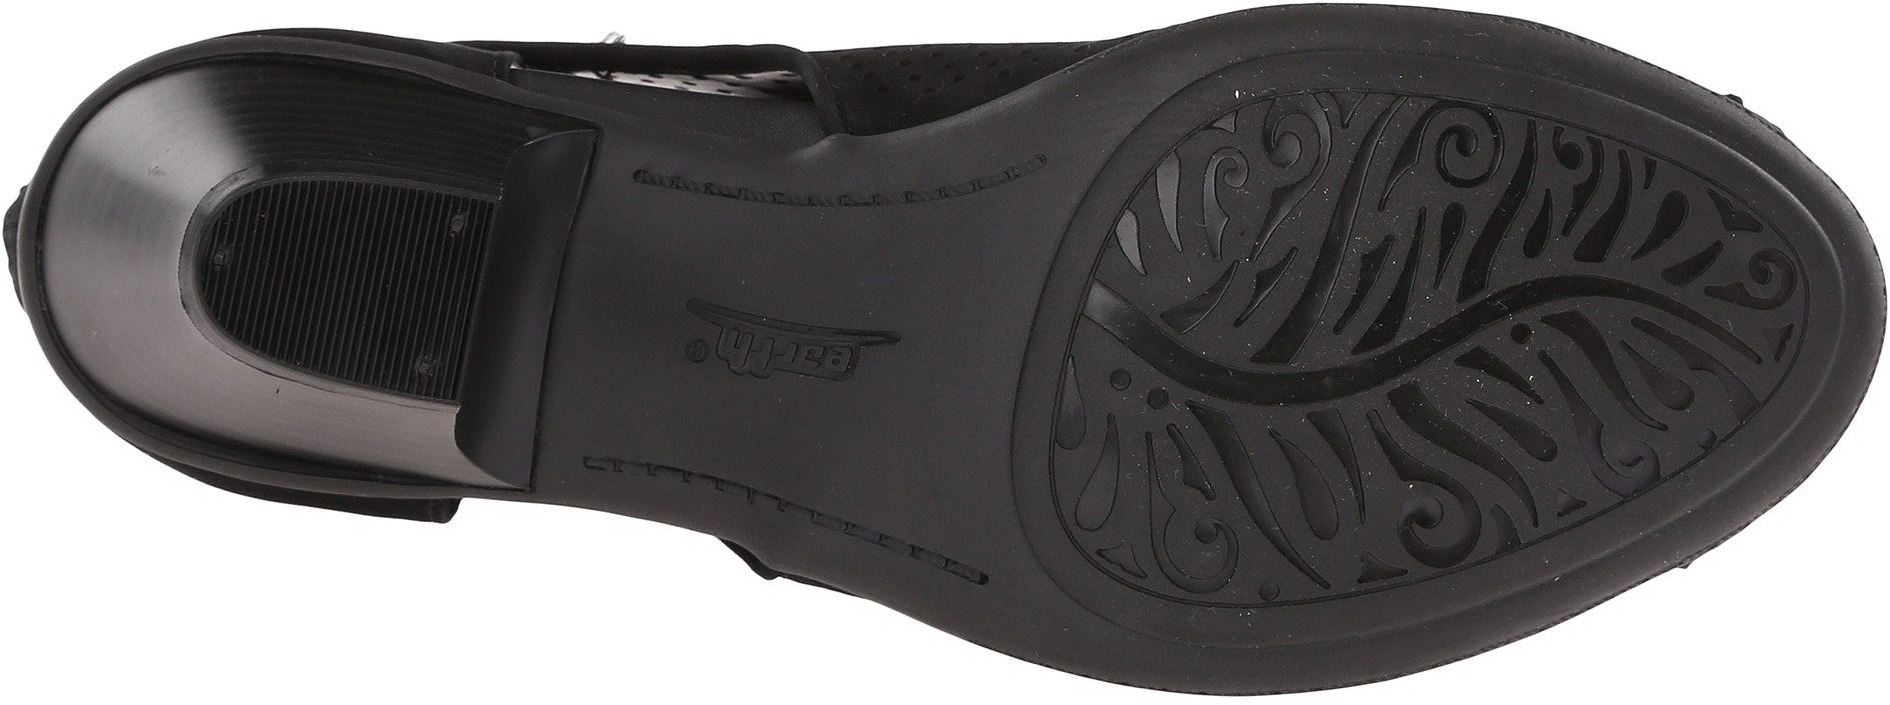circle: (1448, 309, 1549, 421), (1094, 358, 1176, 447), (1673, 411, 1738, 482), (1242, 564, 1299, 625), (435, 206, 485, 255), (400, 343, 452, 390)
line: (275, 222, 397, 343), (435, 206, 485, 255), (400, 343, 452, 390)
other: (1369, 80, 1512, 241), (1223, 422, 1345, 548), (1229, 92, 1349, 215), (1544, 119, 1640, 221)
triangle: (1138, 224, 1248, 345), (1448, 309, 1549, 421), (1696, 168, 1783, 263), (1074, 525, 1152, 603), (1737, 304, 1810, 378), (1530, 476, 1608, 544), (1346, 537, 1417, 606)
